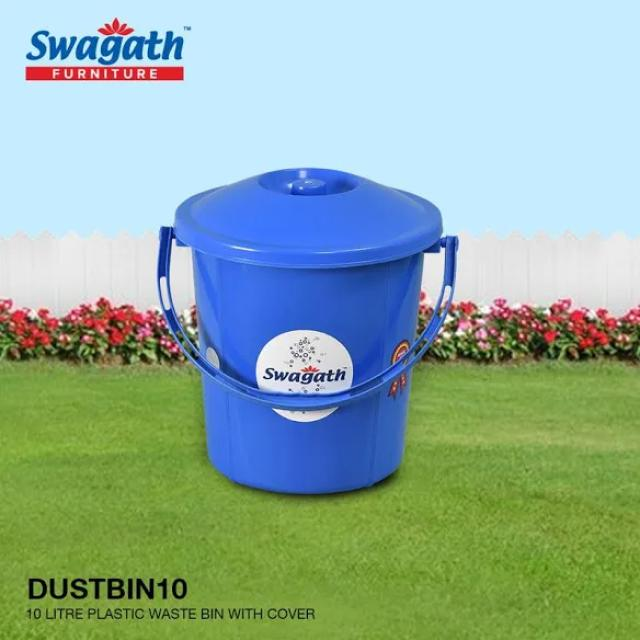plastic_box: (158, 162, 474, 515)
